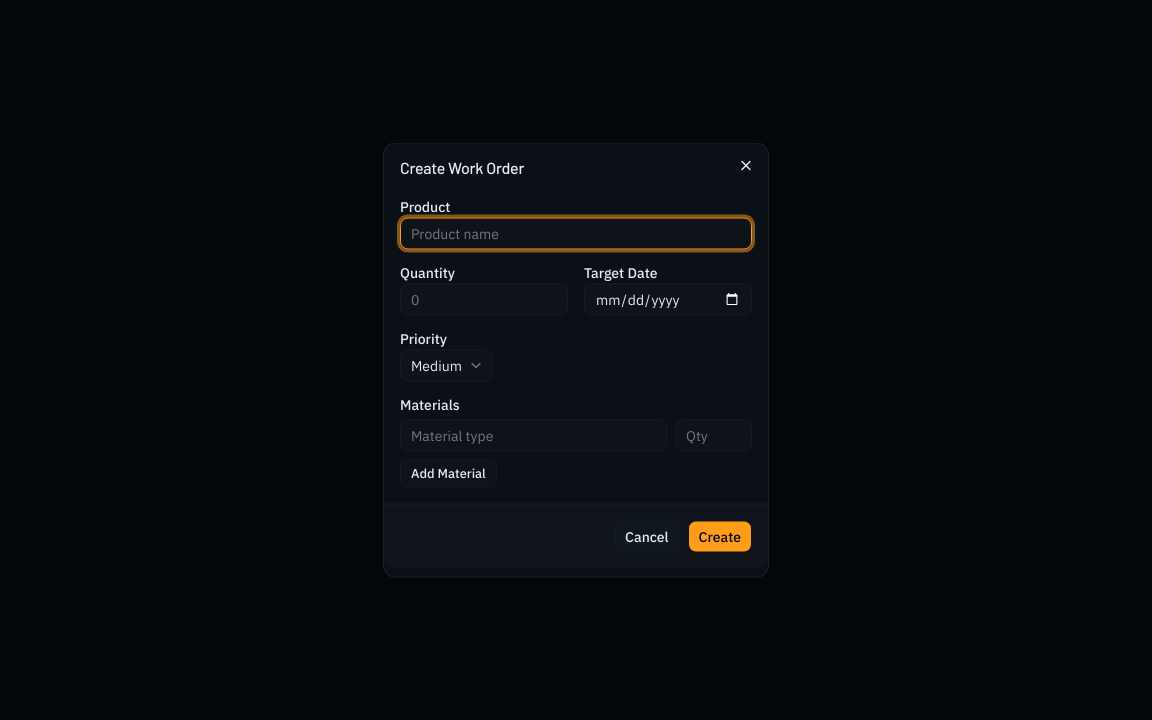
Scenario: CreateWorkOrderForm: shows green/red material availability after submit
This screenshot has width=1152, height=720.
Step 1. Type "Widget X" into the field labelled "Product" → (576, 234), box [400,218,752,250]
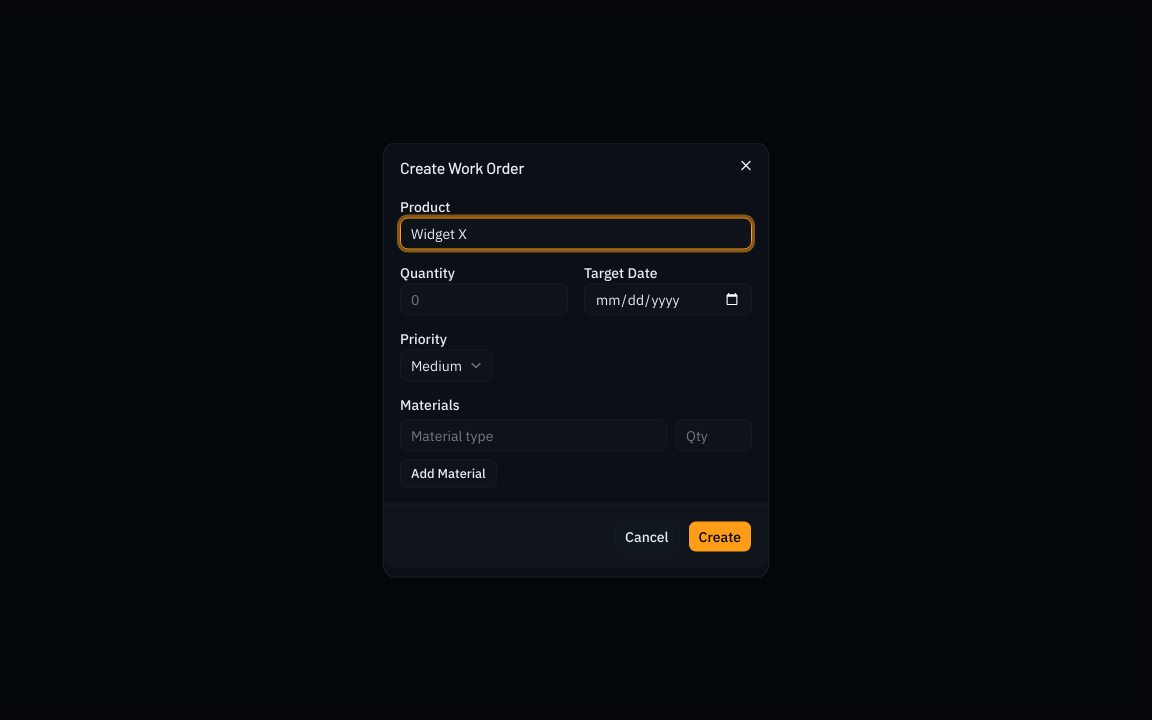
Step 2. Type "50" into the number field labelled "Quantity" → (484, 300), box [400,284,568,316]
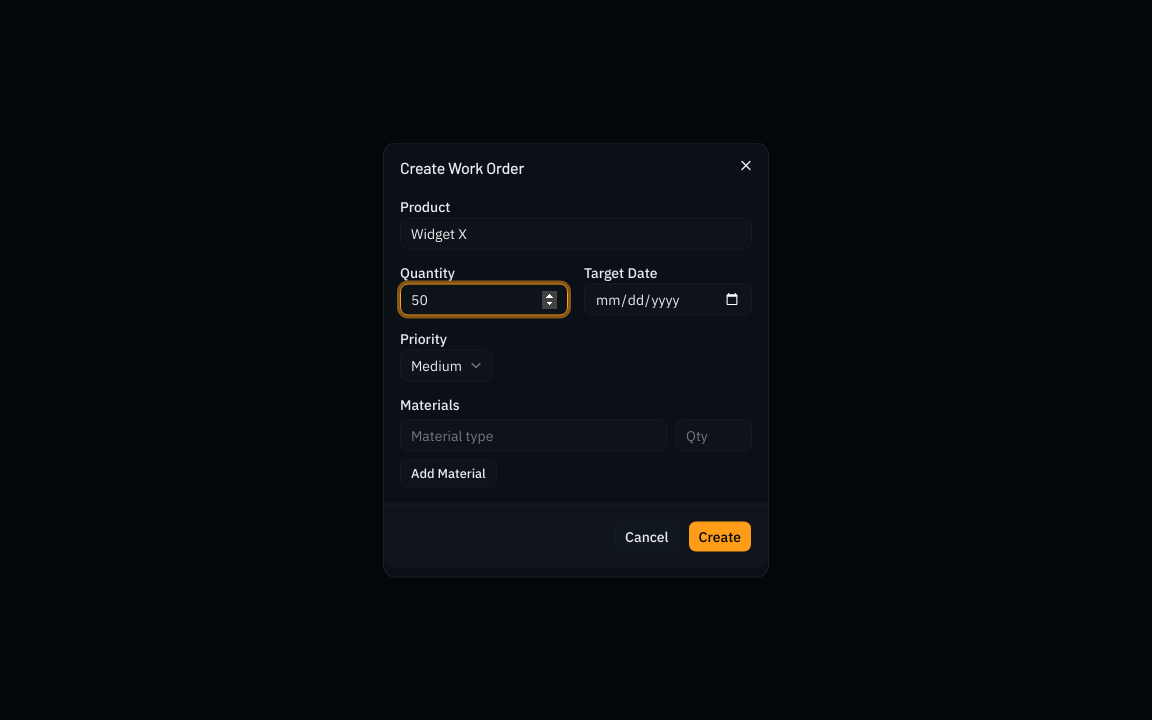
Step 3. Type "2026-06-01" into the date field labelled "Target Date" → (668, 300), box [584,284,752,316]
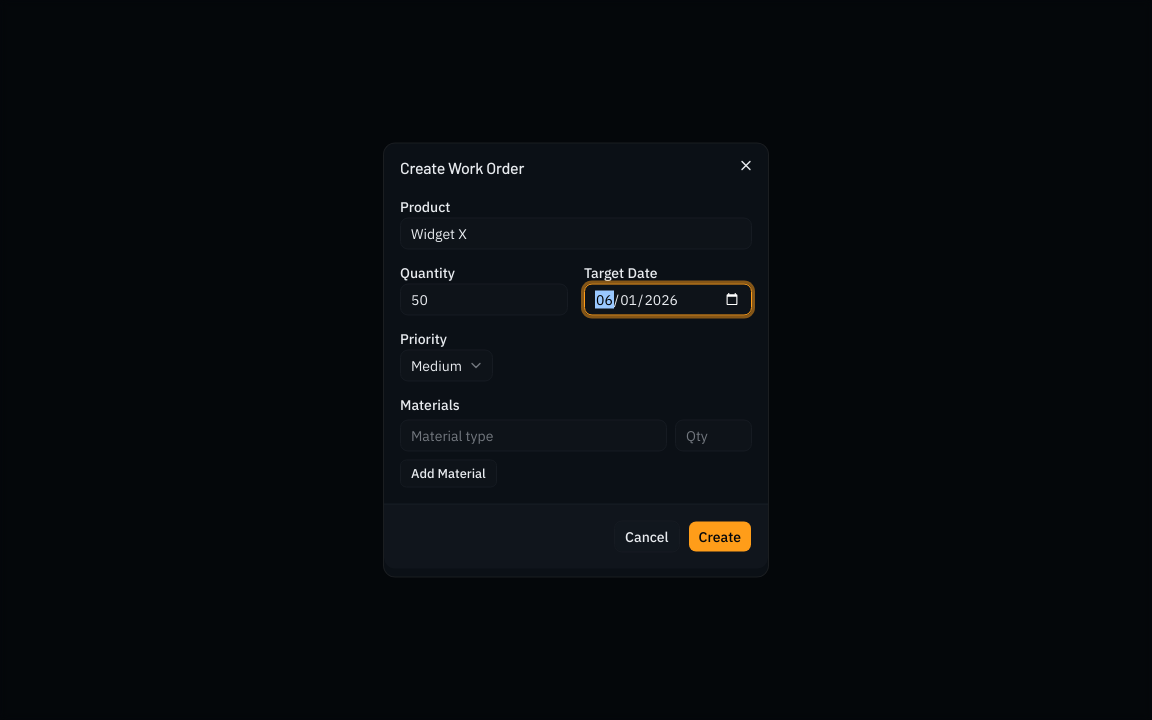
Step 4. Type "Steel" into the field with placeholder "Material type" → (534, 436), box [400,420,667,452]
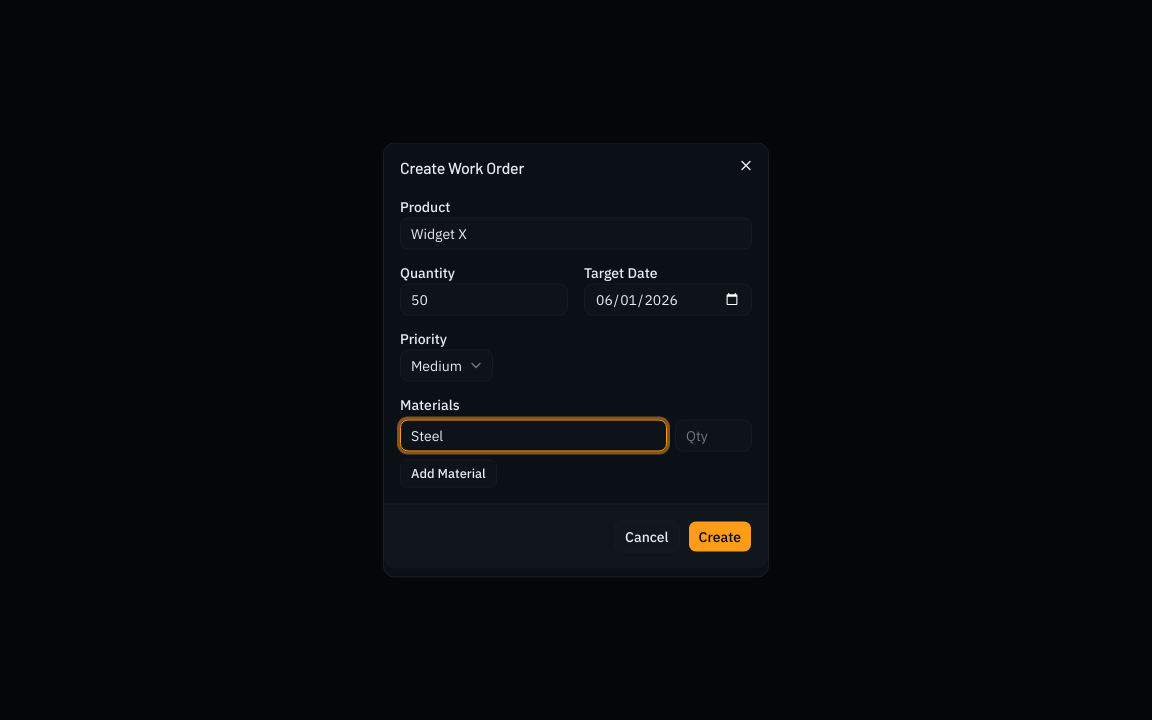
Step 5. Type "10" into the number field with placeholder "Qty" → (714, 436), box [675,420,752,452]
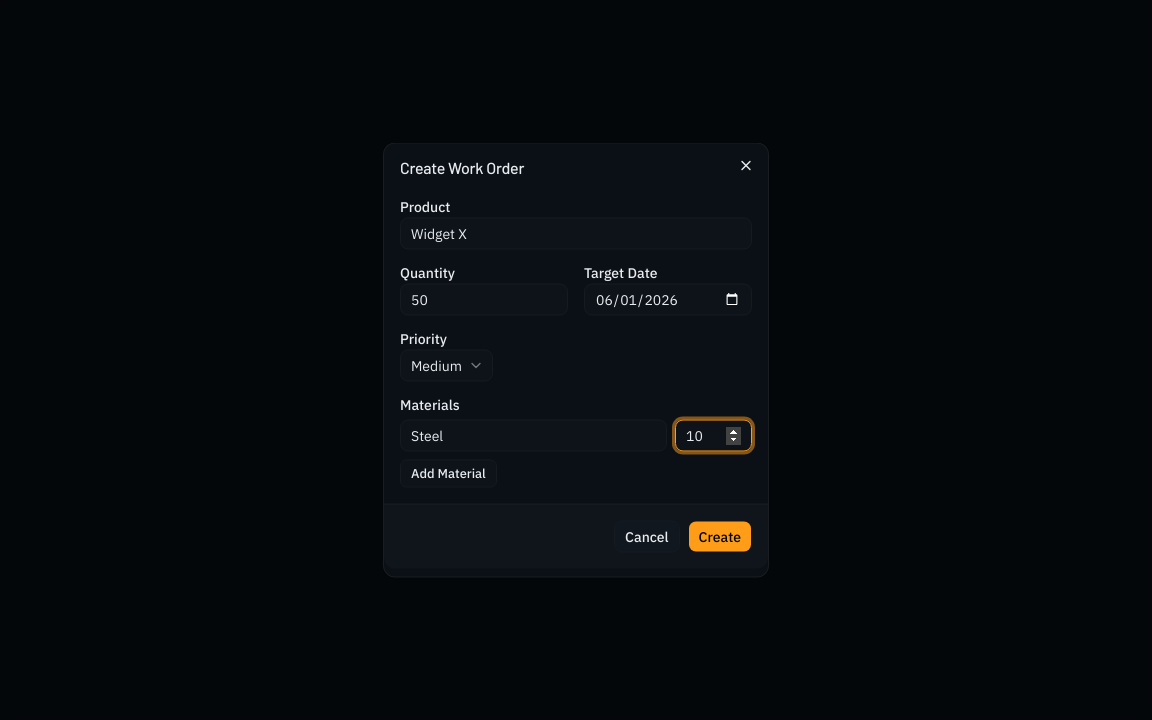
Step 6. Click the button "Create" → (720, 536), box [688,520,752,552]
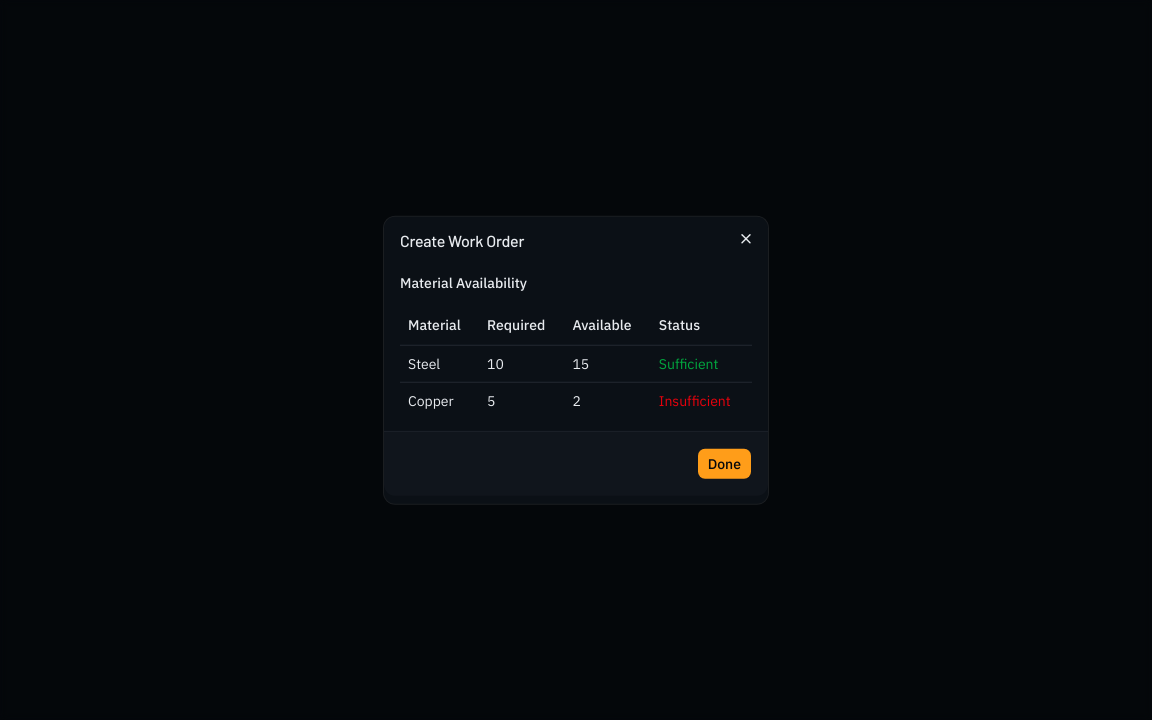
Expected: the text "Steel" is shown, [400,345,479,382]
Expected: the text "Copper" is shown, [400,382,479,418]
